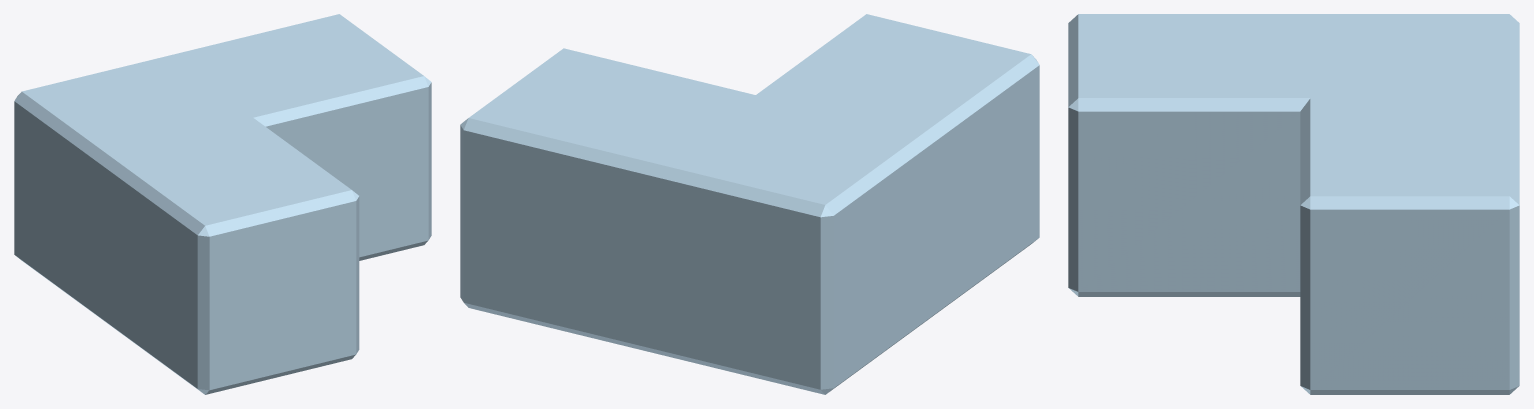
File: R4B_CornerL3_LOD1.glb
3 renders of one model, left to right at view 1: azimuth 30°, elevation 25°; view 2: azimuth 150°, elevation 25°; view 3: azimuth 270°, elevation 25°, orthographic. The views are drawn at different scales.
Visible parts, largest first — view 1: R4B_CornerL3_LOD1; view 2: R4B_CornerL3_LOD1; view 3: R4B_CornerL3_LOD1.
Part boxes in pixels (<box>): R4B_CornerL3_LOD1: <box>14,14,431,394</box>; R4B_CornerL3_LOD1: <box>460,14,1039,394</box>; R4B_CornerL3_LOD1: <box>1068,14,1519,394</box>.
Bounding box in the file's own units: 1.07 × 0.52 × 1.07.
